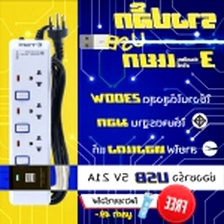three_eye_plug: (4, 33, 57, 208)
